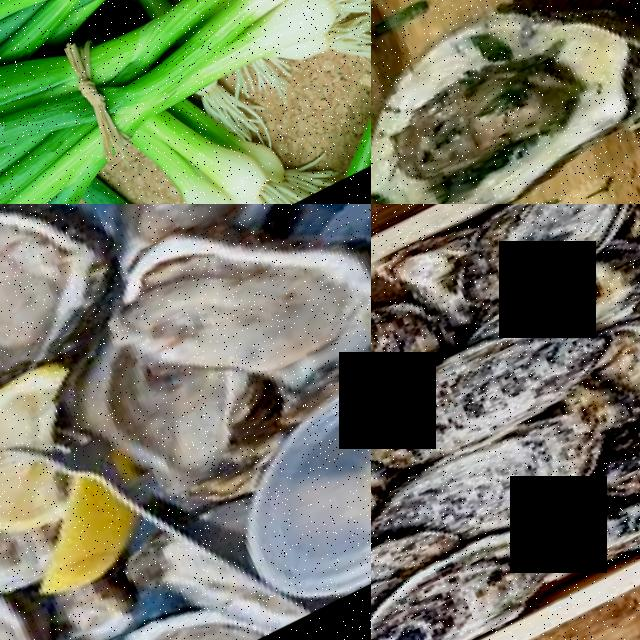lemon: (0, 362, 103, 553)
oysters: (99, 204, 371, 456), (371, 0, 640, 204), (371, 291, 621, 492), (55, 319, 282, 538), (381, 397, 612, 570), (425, 204, 640, 326), (371, 515, 572, 640), (0, 204, 133, 386), (44, 204, 362, 268), (371, 277, 431, 471), (568, 284, 640, 433), (582, 348, 640, 524), (0, 556, 85, 640)
